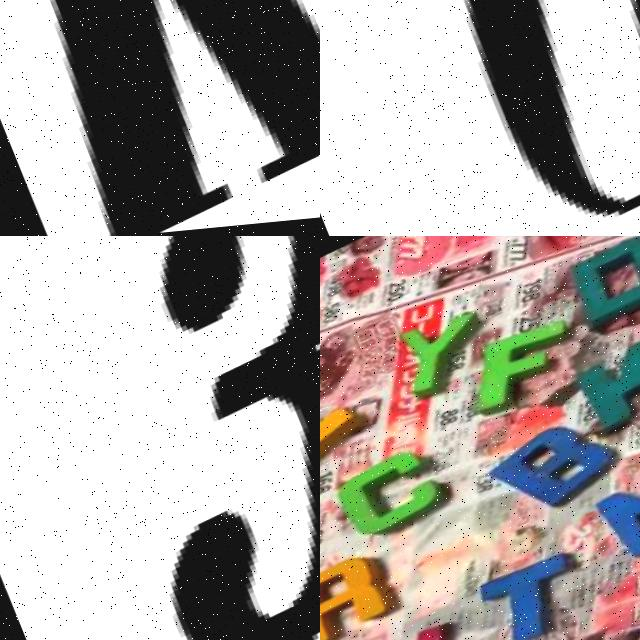3: (10, 236, 320, 640)
B: (479, 411, 625, 540)
C: (332, 441, 453, 552)
D: (561, 236, 640, 339)
F: (463, 312, 584, 417)
K: (0, 0, 320, 236), (576, 340, 640, 441)
L: (320, 375, 363, 487)
N: (592, 457, 640, 575)
R: (320, 545, 395, 640)
T: (477, 547, 593, 640)
U: (328, 613, 471, 640)
Y: (386, 302, 495, 400)
